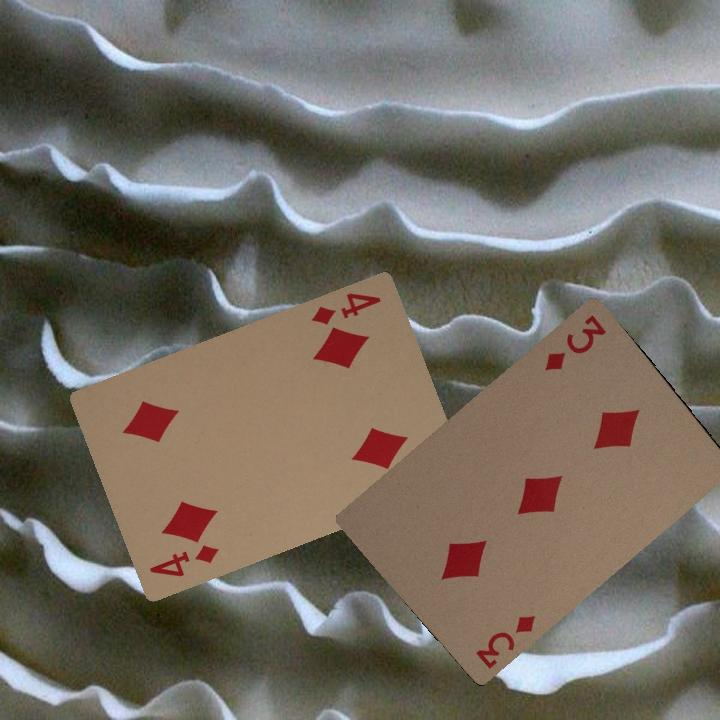3d: (540, 310, 609, 374), (471, 611, 538, 672)
4d: (145, 540, 222, 580), (308, 288, 384, 328)
